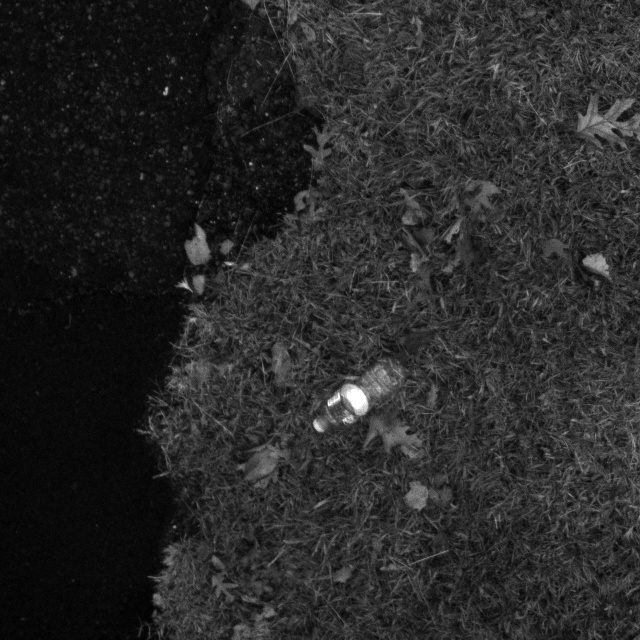bottle: (294, 354, 409, 449)
